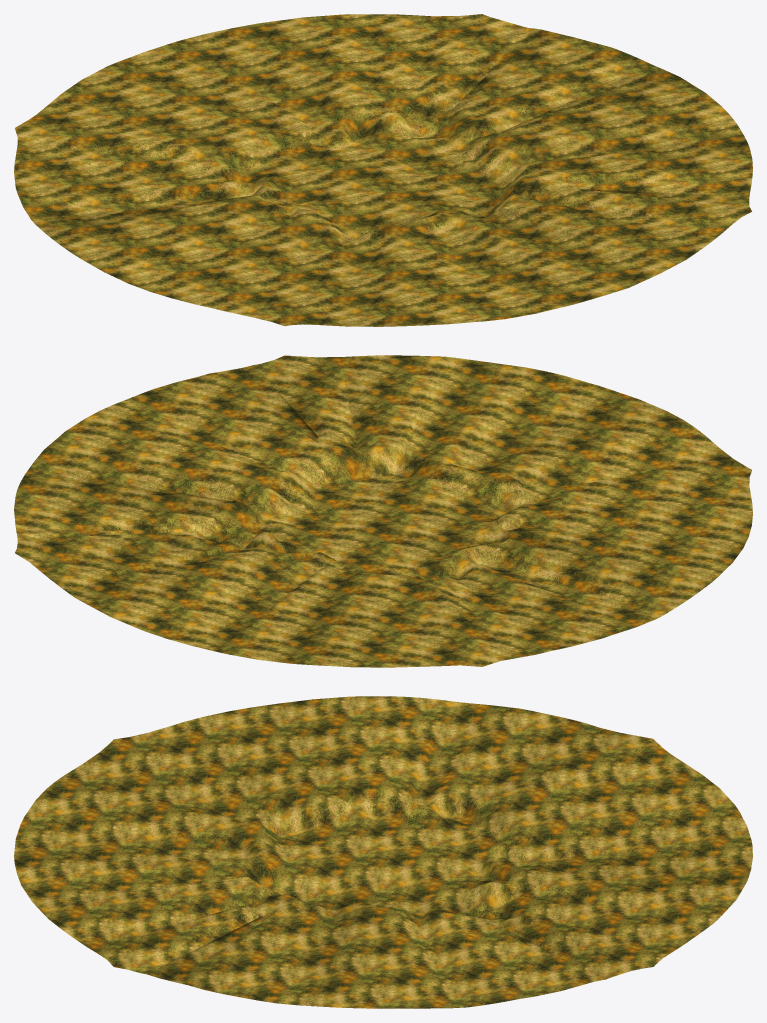
File: ENVO_GrassHills_Drygrass.obj
3 renders of one model, top to bottom at view 1: azimuth 30°, elevation 25°; view 2: azimuth 150°, elevation 25°; view 3: azimuth 270°, elevation 25°, orthographic.
Visible parts, largest first — view 1: GrassHillsDrygrass; view 2: GrassHillsDrygrass; view 3: GrassHillsDrygrass.
Boxes of the visible parts, bbox=[...] form: GrassHillsDrygrass: bbox=[14, 14, 752, 326]; GrassHillsDrygrass: bbox=[14, 355, 752, 667]; GrassHillsDrygrass: bbox=[14, 696, 752, 1008].
Size of what is drawn, in the model's own units: 19998 by 653 by 19998.
2 materials, 2 textured.
